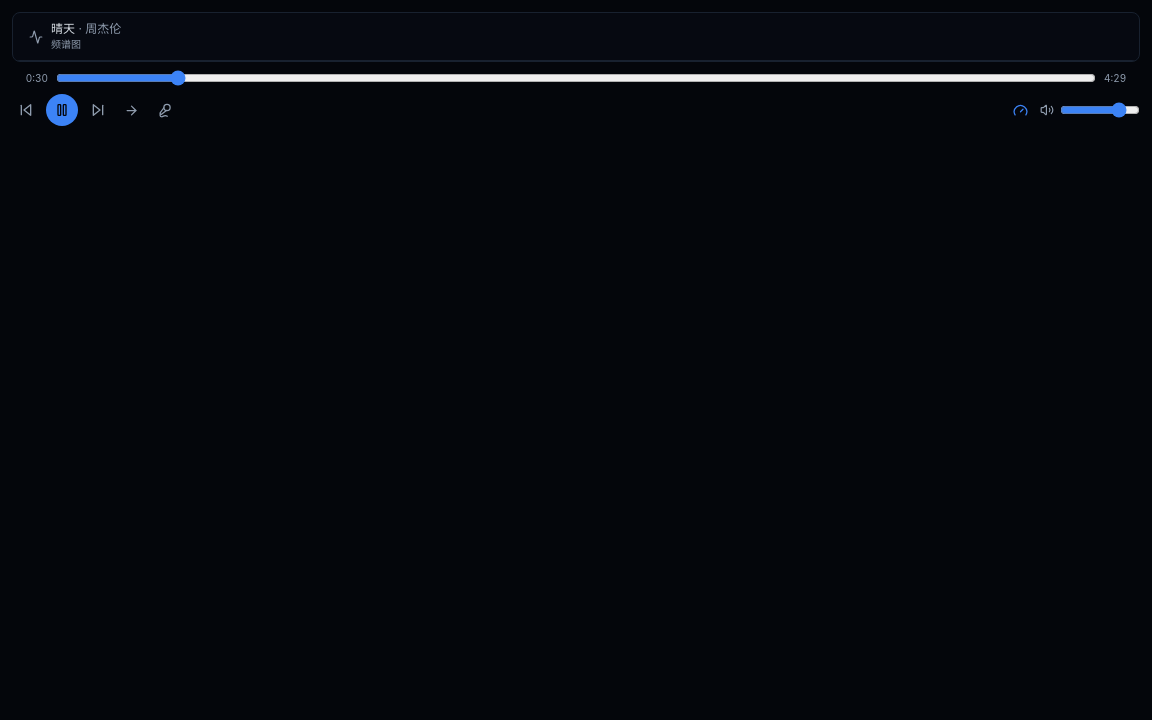
Test case: CompactPlayer (QYP3-035) › lyrics button toggles the overlay panel (QYP3-058)
This screenshot has width=1152, height=720.
Expected: the text "还没有歌词" is not shown
Click the button named "歌词" at {"x": 164, "y": 110}, box [151, 96, 178, 124]
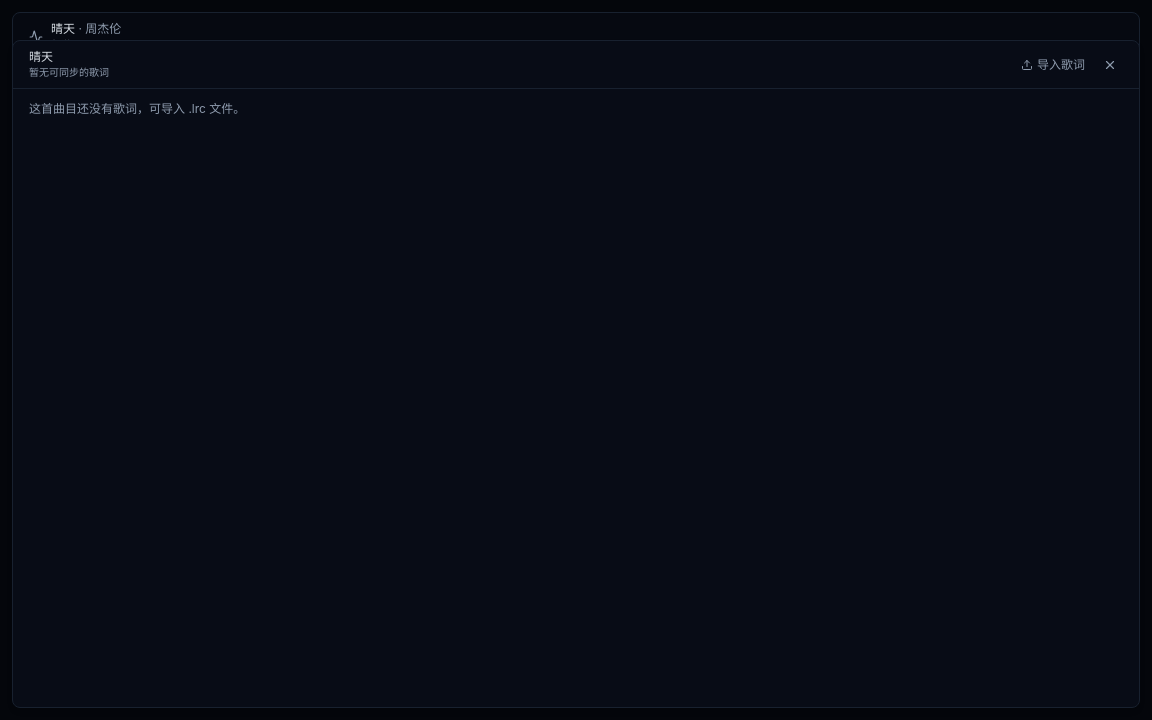
Expected: the text "这首曲目还没有歌词，可导入 .lrc 文件。" is shown, [29, 101, 245, 116]
Click the button named "关闭歌词面板" at {"x": 1110, "y": 64}, box [1097, 52, 1123, 78]
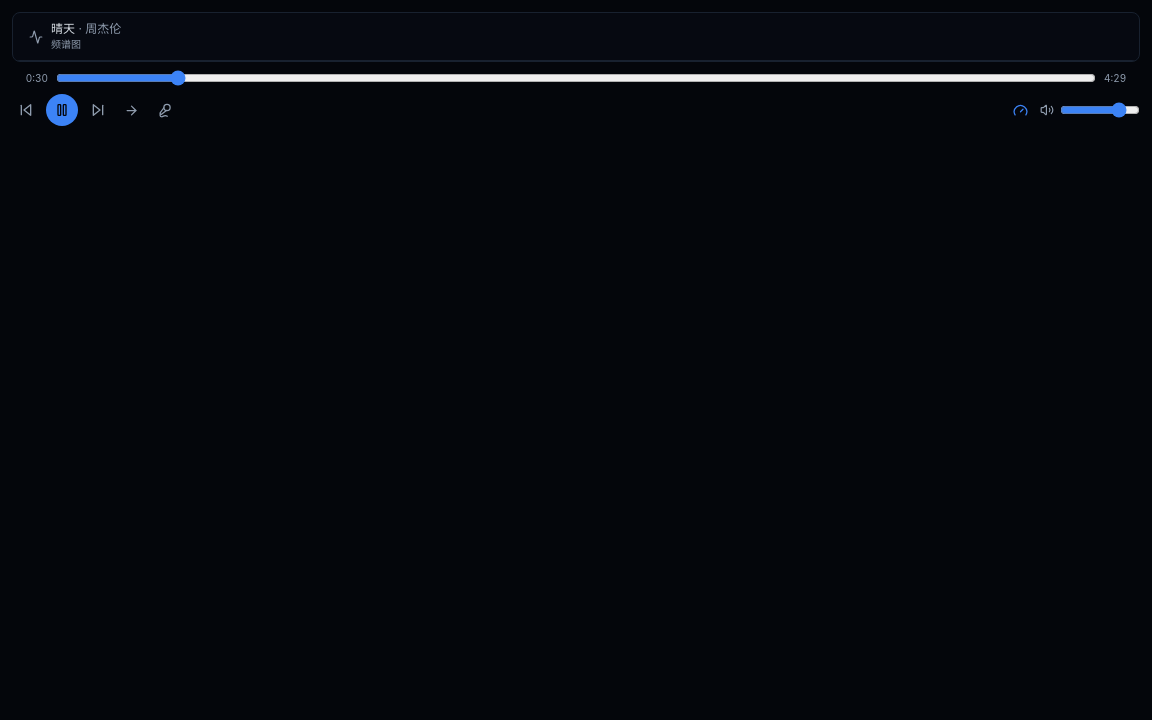
Expected: the text "还没有歌词" is gone
